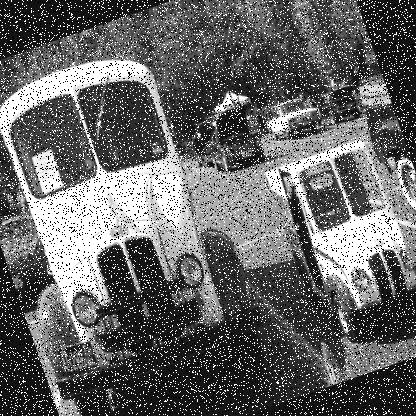Car: (0, 37, 283, 415), (265, 137, 415, 355), (0, 209, 60, 301), (198, 102, 268, 176), (262, 92, 326, 144), (315, 82, 370, 128), (184, 116, 232, 168), (350, 73, 388, 107), (187, 130, 218, 166), (0, 190, 16, 218)
